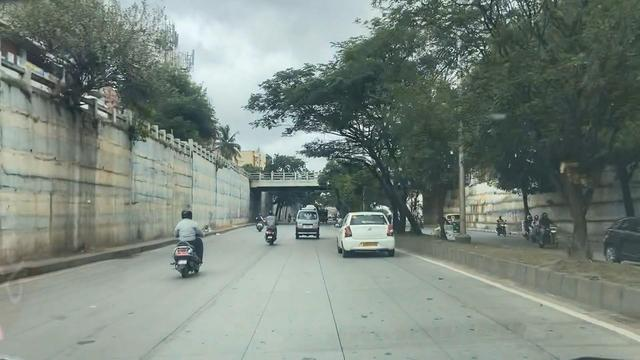LMV: (336, 204, 402, 262), (166, 201, 204, 275)
